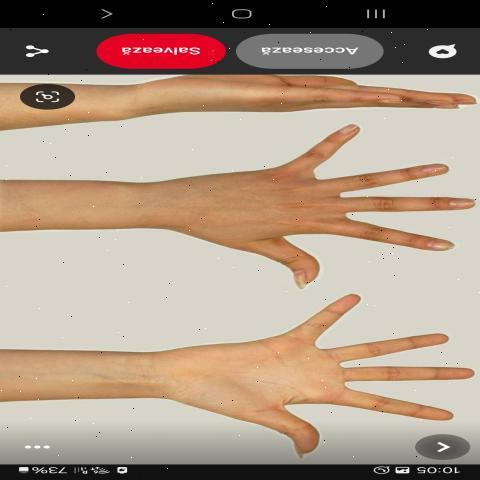Hands: (198, 125, 474, 319), (195, 294, 476, 466), (46, 78, 475, 142)
